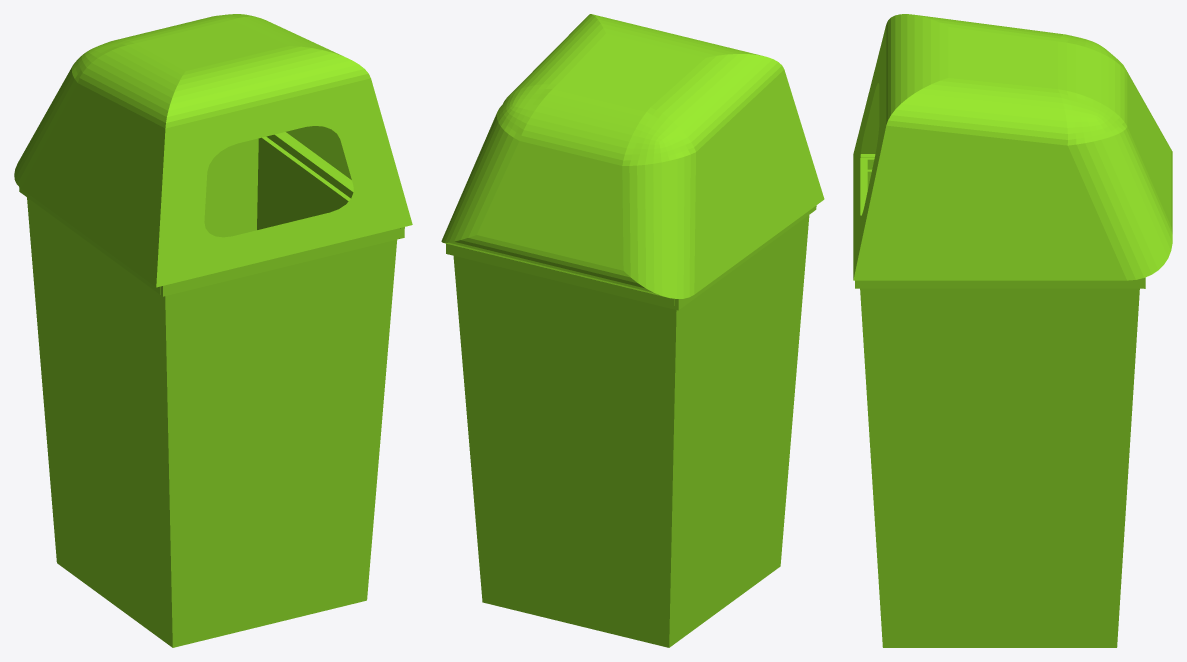
The model's file is tachodebasura.fbx.
3 renders of one model, left to right at view 1: azimuth 30°, elevation 25°; view 2: azimuth 150°, elevation 25°; view 3: azimuth 270°, elevation 25°, orthographic. The views are drawn at different scales.
Visible parts, largest first — view 1: Cube; view 2: Cube; view 3: Cube.
Part boxes in pixels (bbox=[...]): Cube: bbox=[14, 14, 412, 647]; Cube: bbox=[441, 14, 824, 647]; Cube: bbox=[853, 14, 1172, 647].
Size of the model in its own units: 221 by 446 by 235.
